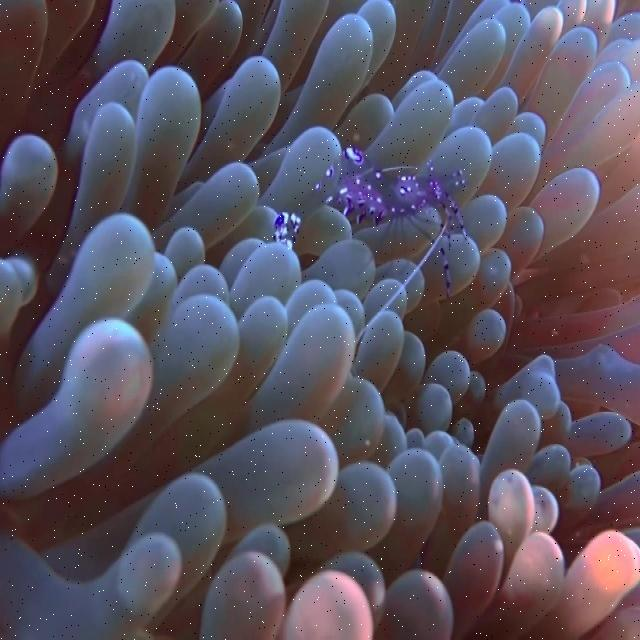fish: (268, 154, 466, 267)
reefs: (0, 0, 639, 638)
